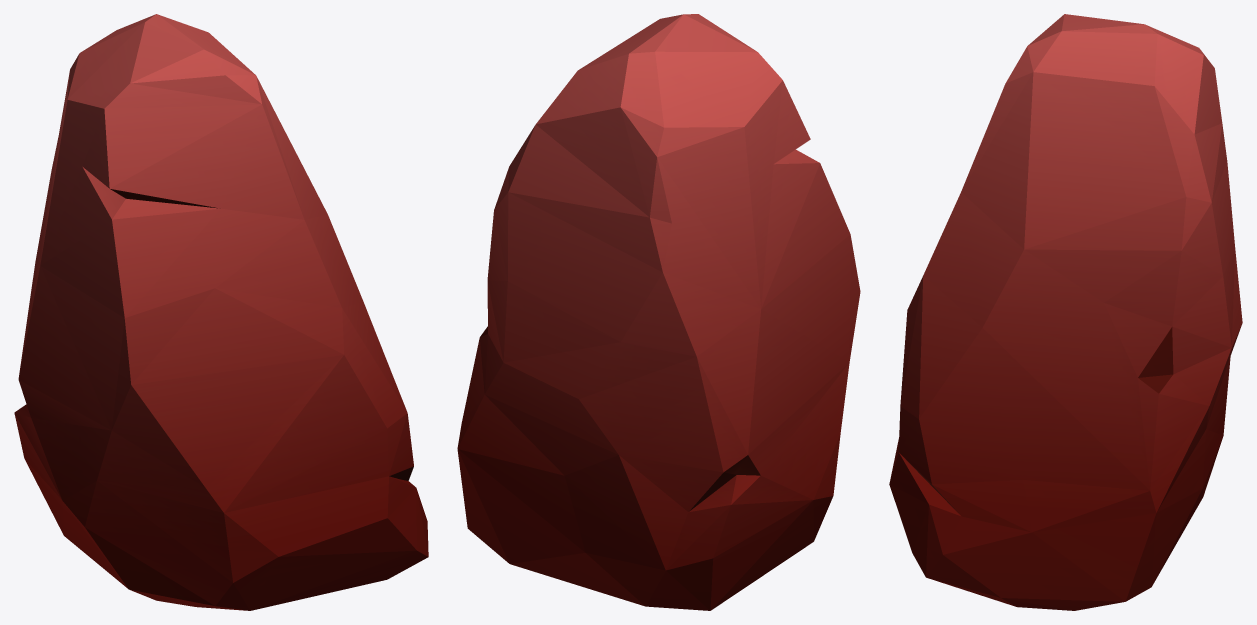
File: Crystal_Stone_01.FBX
3 views of the same model, side by side, from view 1: azimuth 30°, elevation 25°; view 2: azimuth 150°, elevation 25°; view 3: azimuth 270°, elevation 25° (orthographic). The views are drawn at different scales.
Parts seen in each view (by area): view 1: Floating_Rock_1_Big_0_1.071; view 2: Floating_Rock_1_Big_0_1.071; view 3: Floating_Rock_1_Big_0_1.071.
Boxes of the visible parts, bbox=[...] form: Floating_Rock_1_Big_0_1.071: bbox=[14, 14, 428, 610]; Floating_Rock_1_Big_0_1.071: bbox=[457, 14, 860, 610]; Floating_Rock_1_Big_0_1.071: bbox=[889, 14, 1242, 610].
Bounding box in the file's own units: 223 × 371 × 232.
